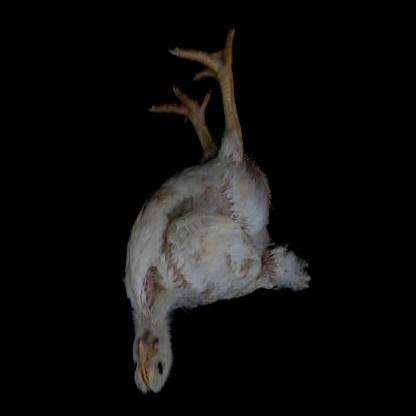Unhealthy: (104, 22, 330, 402)
